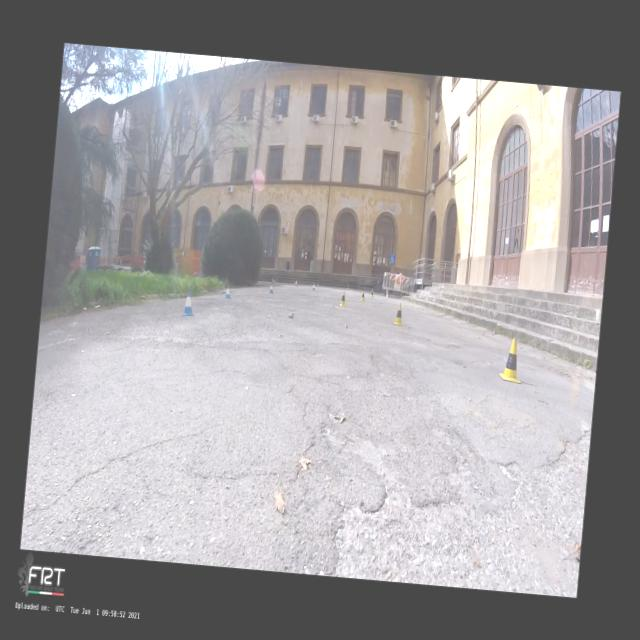blue_cone: (181, 288, 195, 316), (224, 284, 232, 298), (268, 283, 273, 293), (312, 282, 316, 291), (294, 278, 298, 286), (272, 278, 274, 284)
yellow_cone: (498, 337, 524, 383), (392, 302, 404, 325), (338, 290, 346, 306), (360, 290, 366, 302), (368, 288, 374, 298), (346, 284, 349, 290), (316, 280, 318, 286)
